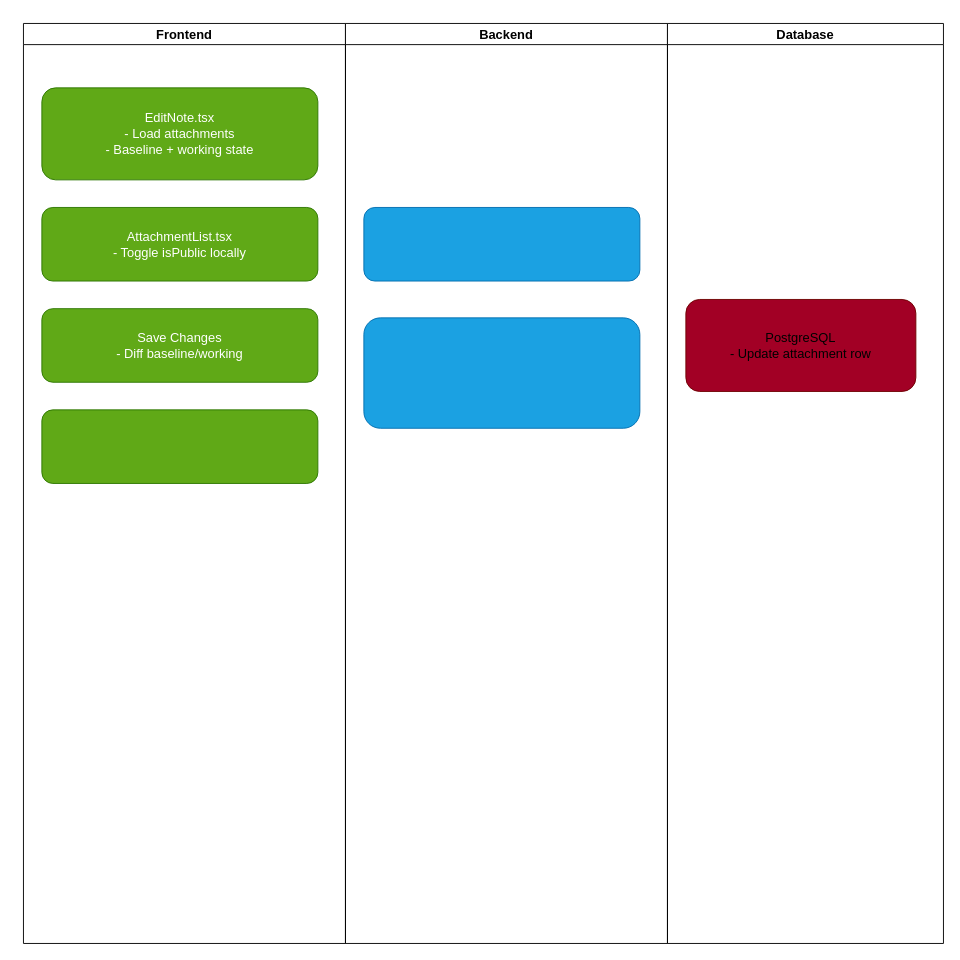
The diagram is 960 pixels wide and 960 high, and some of its shapes have lost their labels. Each missing label, with the box of its shape:
AttachmentController - Parse DTO - Forward to service: (363, 207, 640, 281)
AttachmentService - Validate owner - Ensure note is public - Persist update: (363, 317, 640, 428)
notesApi.ts PUT /api/attachments/{id}: (41, 409, 318, 483)
